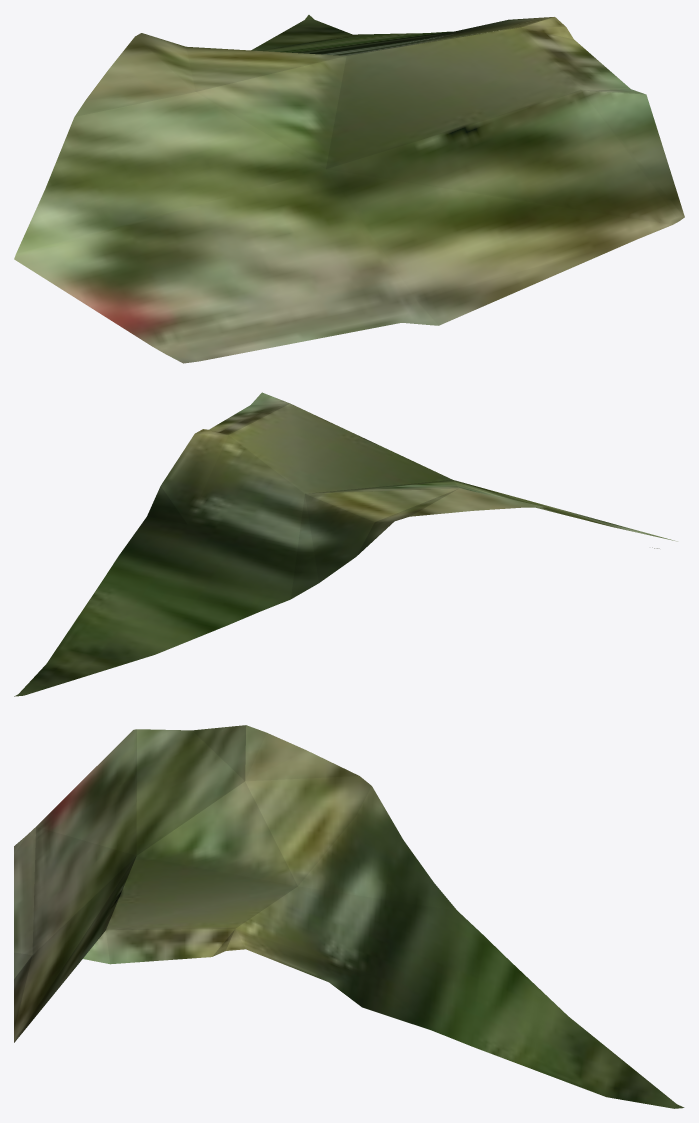
3 views of the same model, one above another, from view 1: azimuth 30°, elevation 25°; view 2: azimuth 150°, elevation 25°; view 3: azimuth 270°, elevation 25° (orthographic). The views are drawn at different scales.
Bounding box in the file's own units: 1.72 × 0.5432 × 1.85.
1 material, 1 textured.
